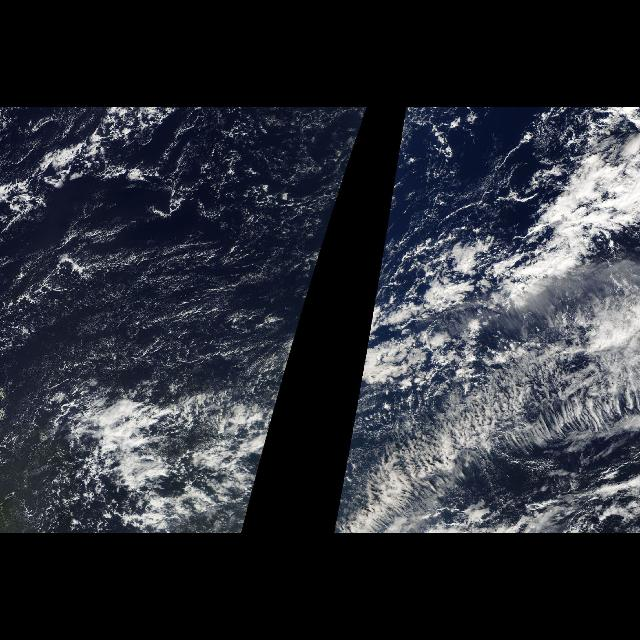Fish: (355, 300, 623, 520)
Sugar: (6, 110, 368, 394), (383, 110, 451, 240)
